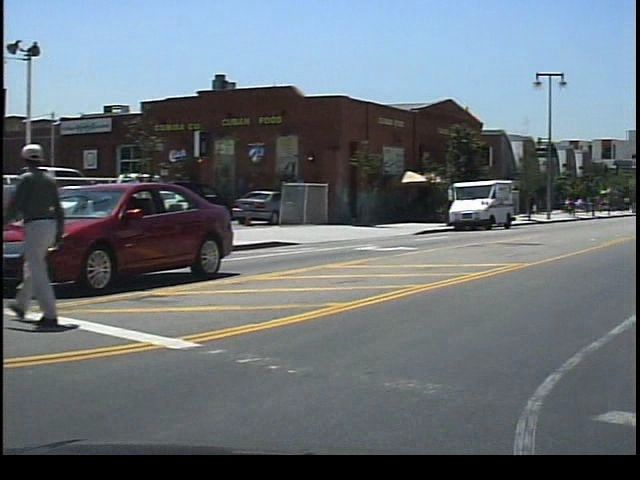person: (23, 138, 90, 328)
